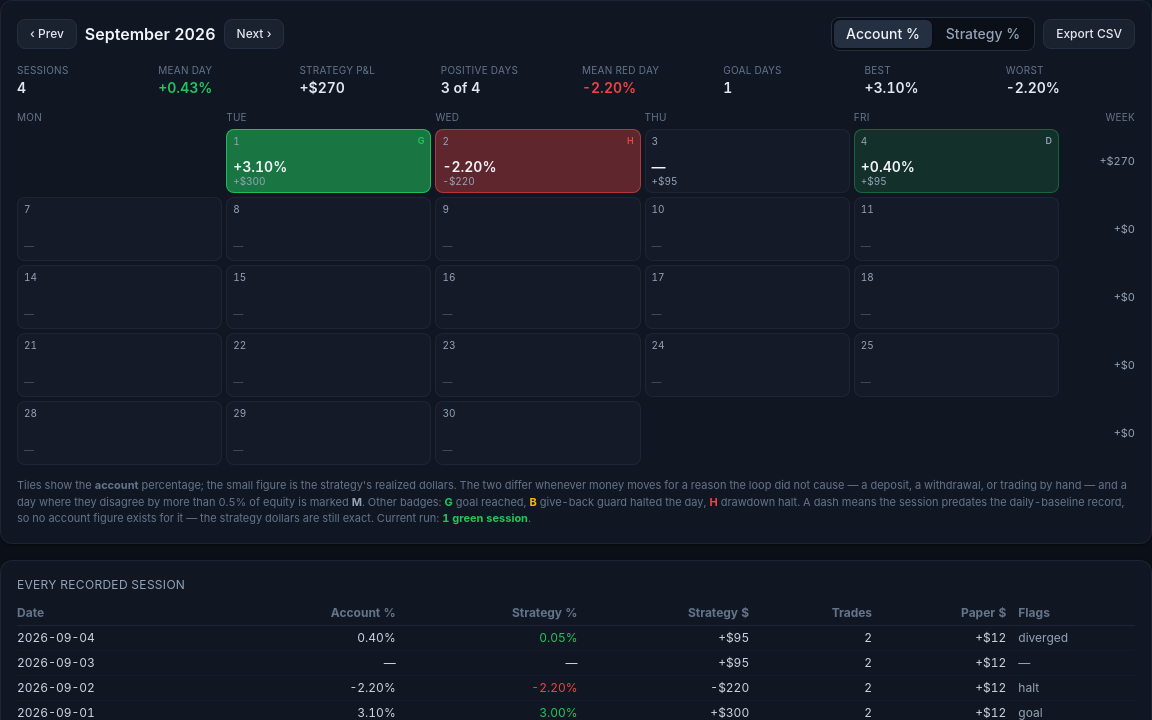
Test: DailyResultsPage › navigates months and shows an empty one honestly
Expected: the element with test id "results-calendar" is shown, [17,110,1135,465]
Click the button "‹ Prev": (47, 34) [17,19,77,49]
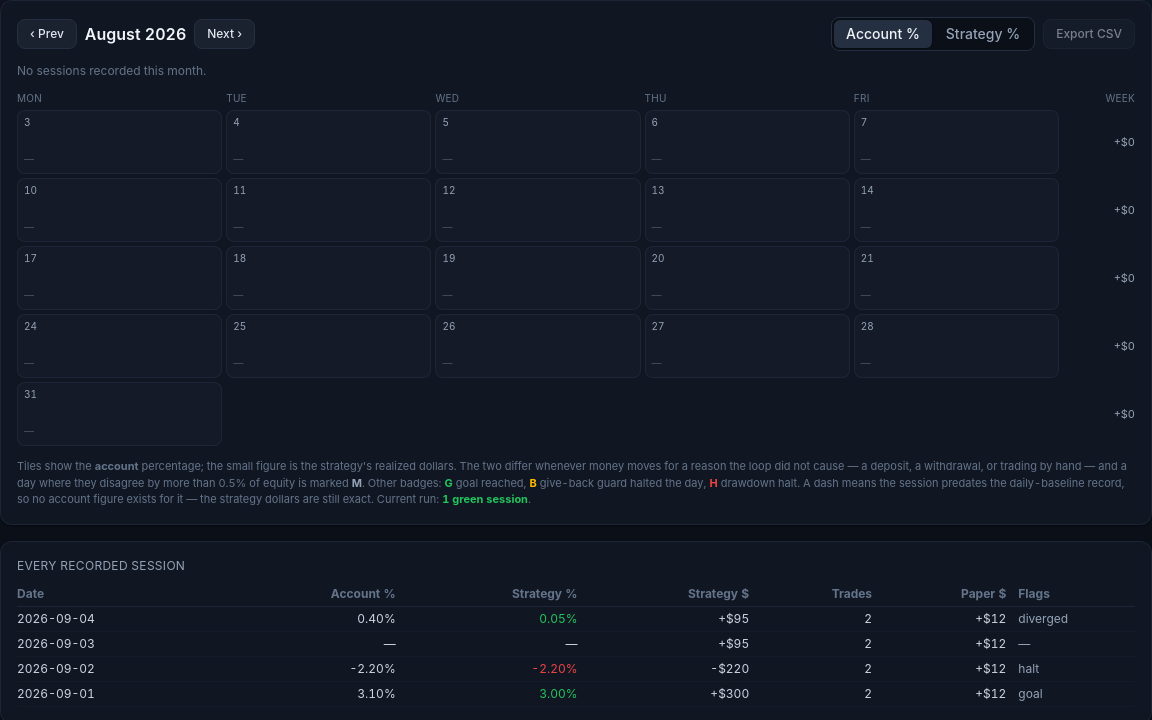
Expected: the heading with test id "results-month" reads "August 2026", [85,24,186,44]
Expected: the text "No sessions recorded this month." is shown, [17,63,206,78]
